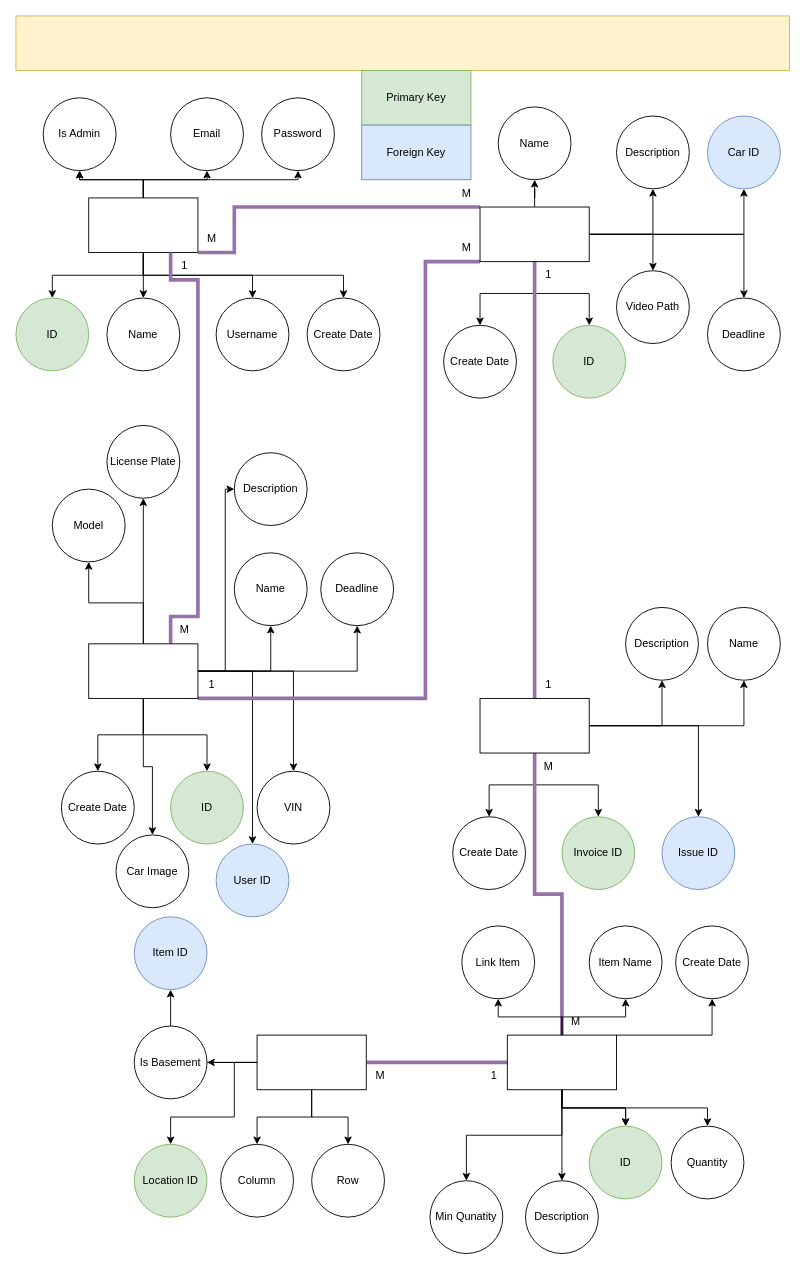
The diagram is 805 pixels wide and 1269 high, and some of its shapes have lost their labels. The shapes that lost their labels are listed below. From the top down, each one's centre as x and y in pixels, then its label:
(402,43): CREATE DATABASE AutoMechanicsDB; USE AutoMechanicsDB;
(143,225): Users
(534,234): Issues
(143,670): Cars
(534,725): Invoices
(311,1062): Item Location
(561,1062): Items
